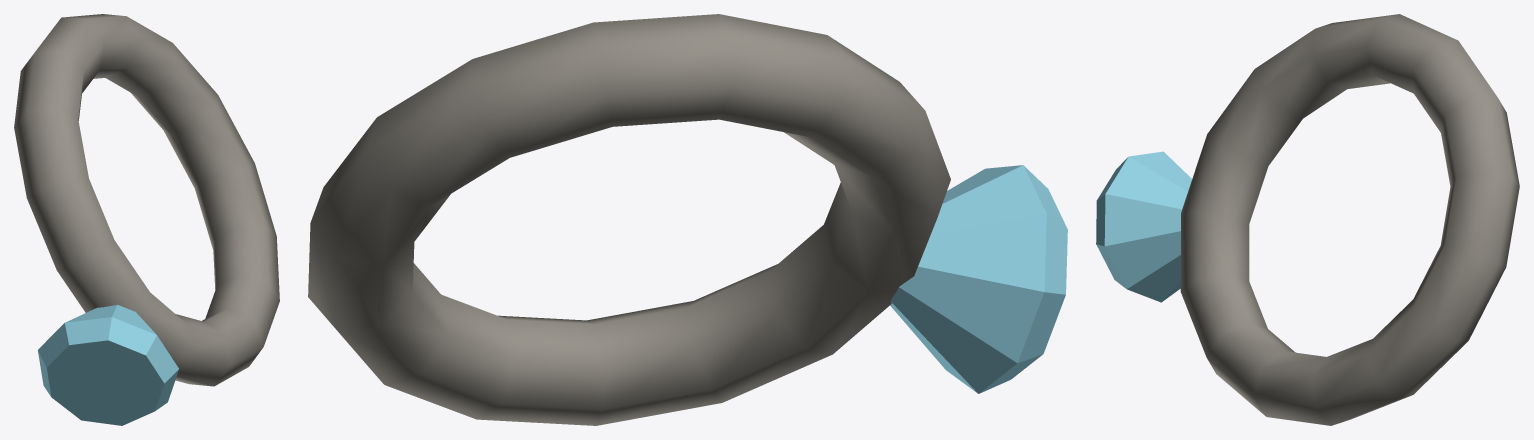
File: ring.glb
The picture shows the model from 3 angles, left to right: view 1: azimuth 30°, elevation 25°; view 2: azimuth 150°, elevation 25°; view 3: azimuth 270°, elevation 25°; orthographic projection. The views are drawn at different scales.
Visible parts, largest first — view 1: ring; view 2: ring; view 3: ring.
Boxes of the visible parts, box(x1,y1,x2,y2) form: ring: box(14, 14, 279, 425); ring: box(308, 14, 1067, 425); ring: box(1096, 14, 1519, 425).
Bounding box in the file's own units: 0.2303 × 0.2073 × 0.2397.
